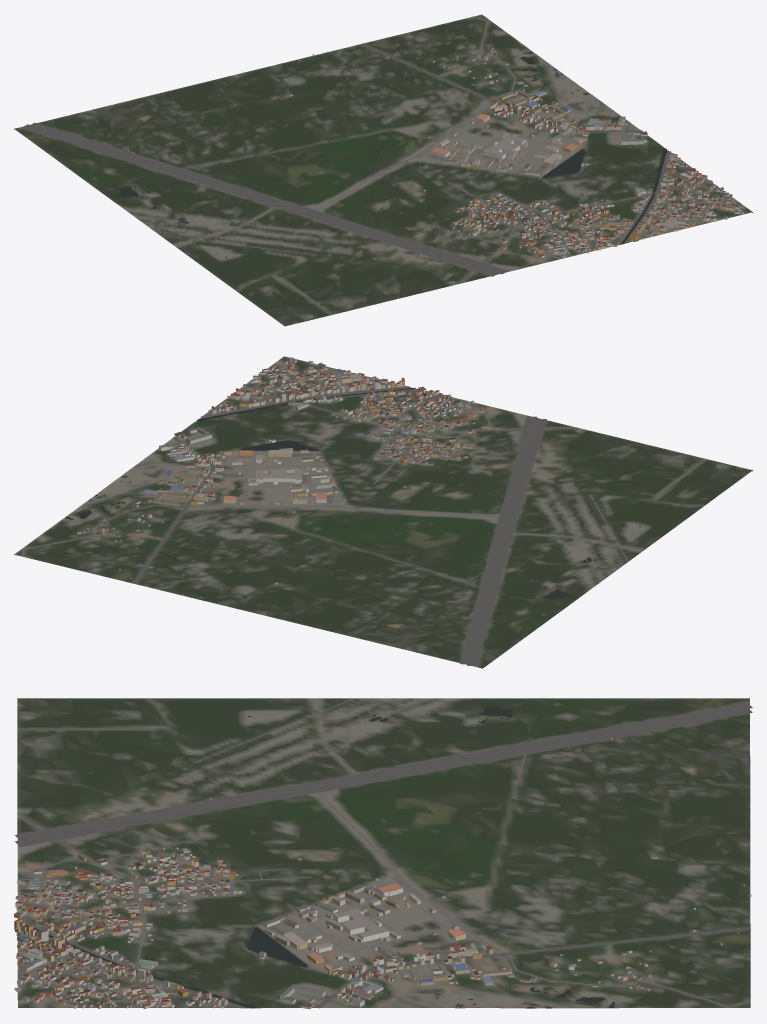
3 renders of one model, top to bottom at view 1: azimuth 30°, elevation 25°; view 2: azimuth 150°, elevation 25°; view 3: azimuth 270°, elevation 25°, orthographic. The views are drawn at different scales.
Parts seen in each view (by area): view 1: ground, buildings, roads, water; view 2: ground, buildings, roads, water; view 3: ground, buildings, roads, water.
Part boxes in pixels (box(x1,y1,x2,y2)): ground: box(14, 14, 752, 326); buildings: box(127, 43, 743, 258); roads: box(22, 16, 724, 291); water: box(120, 51, 667, 257); ground: box(14, 356, 752, 668); buildings: box(77, 357, 489, 616); roads: box(22, 368, 704, 666); water: box(65, 388, 640, 599); ground: box(17, 698, 750, 1008); buildings: box(14, 738, 751, 1009); roads: box(15, 698, 752, 1008); water: box(25, 706, 614, 1008).
Bounding box in the file's own units: 1408 × 25.35 × 1414.
